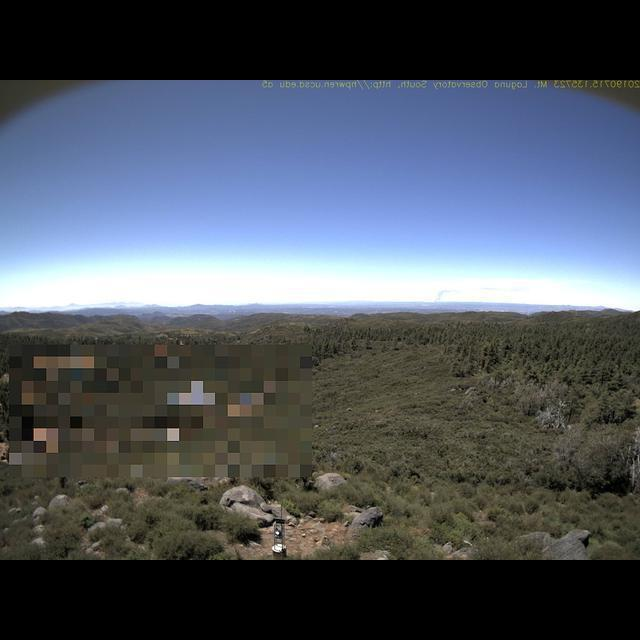Smoke: (432, 288, 454, 302)
